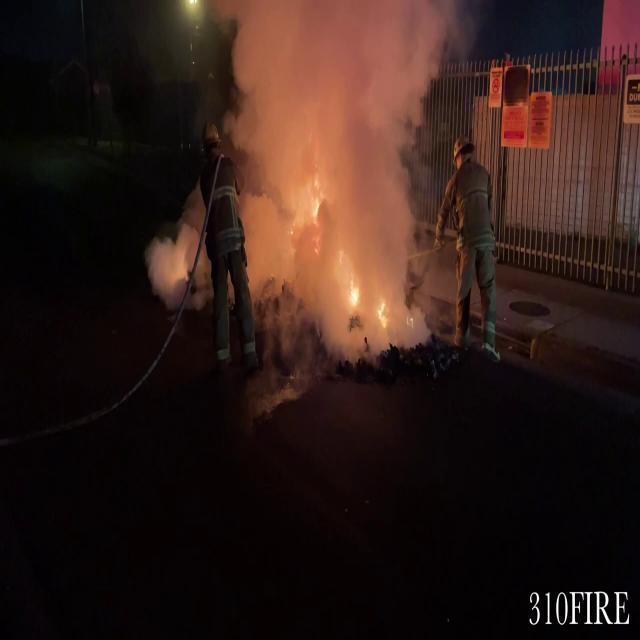Smoke: (215, 1, 450, 344)
